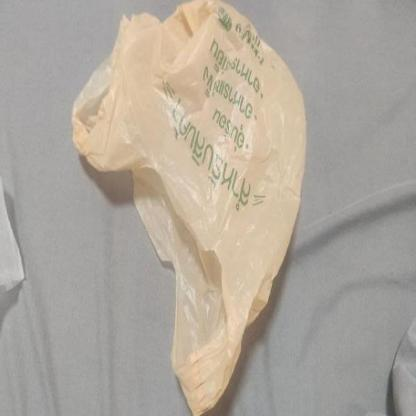Plastic Bag: (68, 0, 310, 416)
